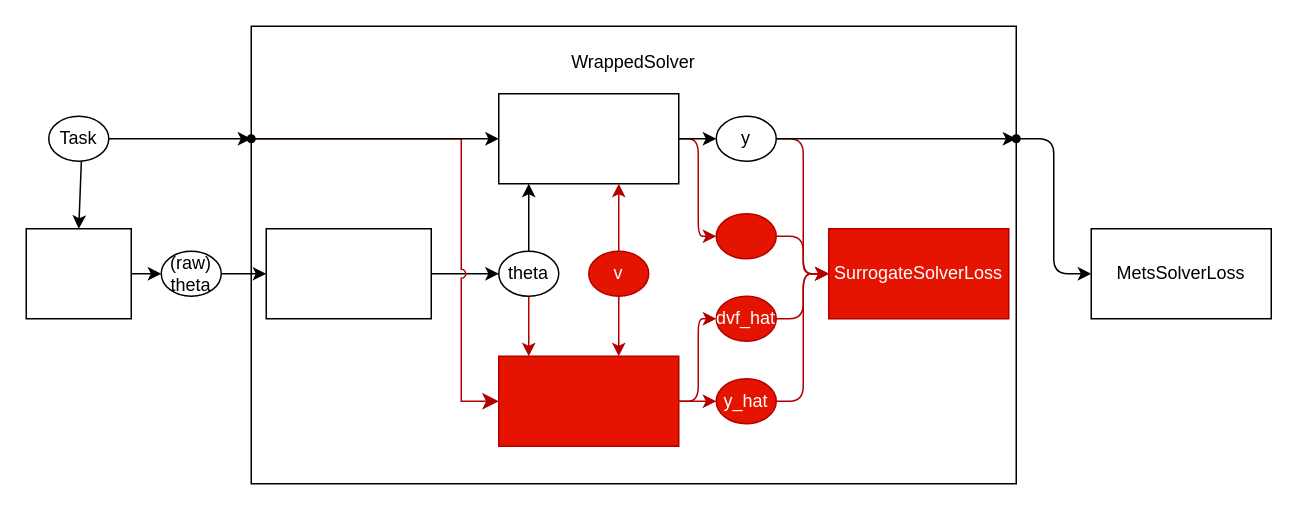
The diagram is 1298 pixels wide and 510 high, and some of its shapes have lost their labels. Here are the shapes that lost their labels. From the top down, the box of each, then its label:
(497, 92, 679, 184): Solver
(715, 212, 776, 259): dvf
(25, 227, 131, 319): MetsSolver
(265, 227, 431, 319): ThetaConstructor
(497, 355, 679, 446): SurrogateSolver
